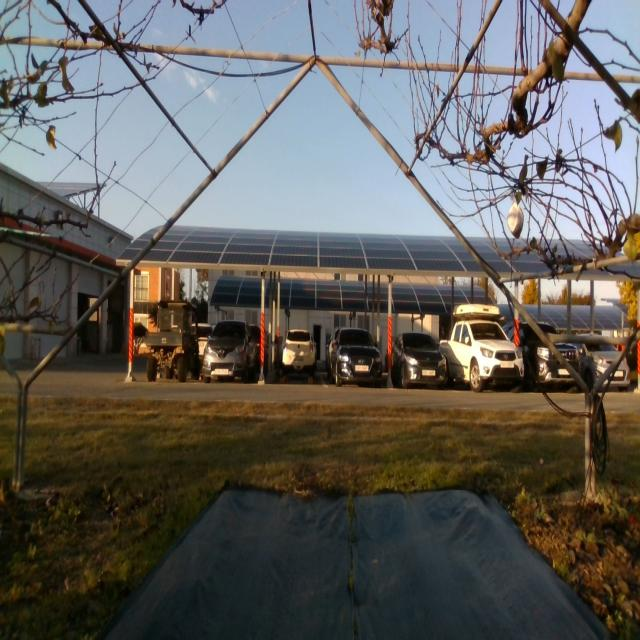pearbags: (507, 201, 524, 238)
